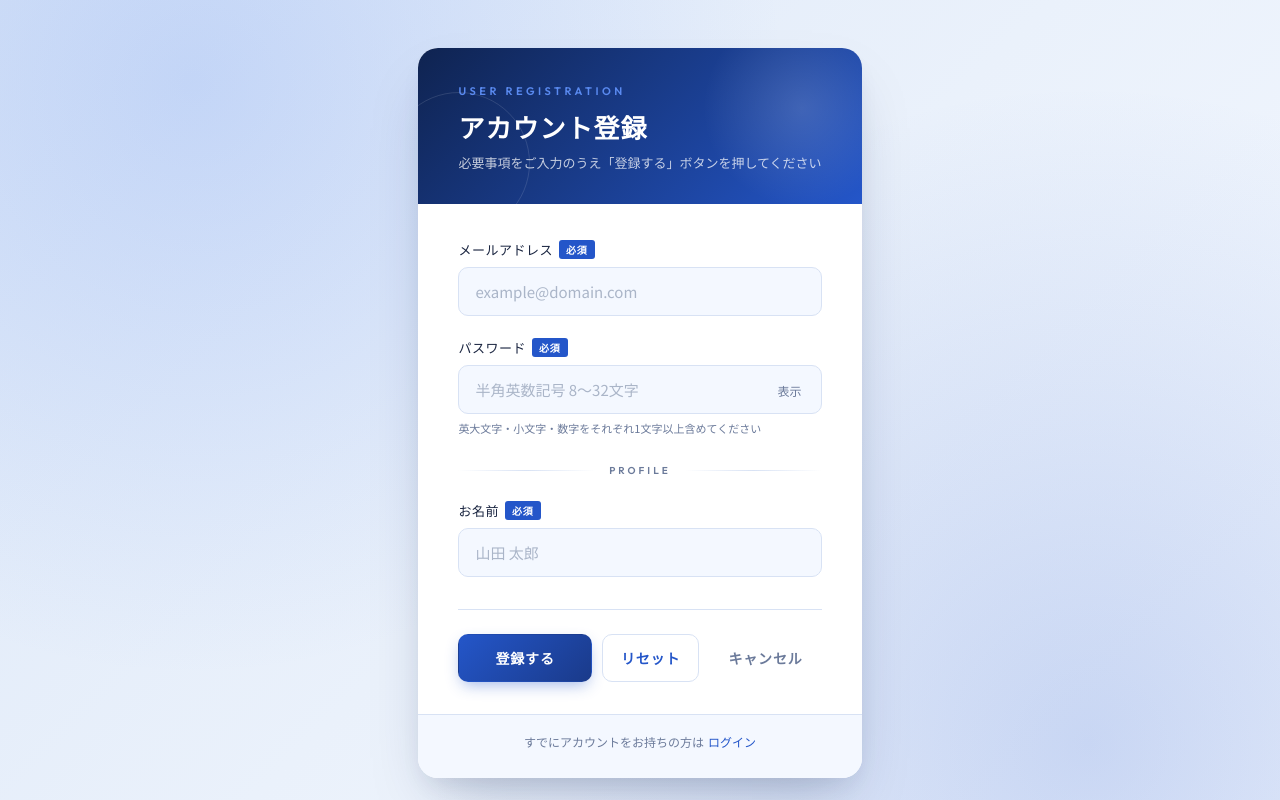
Test: Register › 全フィールド未入力で送信するとそれぞれエラーが出て signUp は呼ばれない
Click the button "登録する" at (525, 658), box [458,634,592,682]
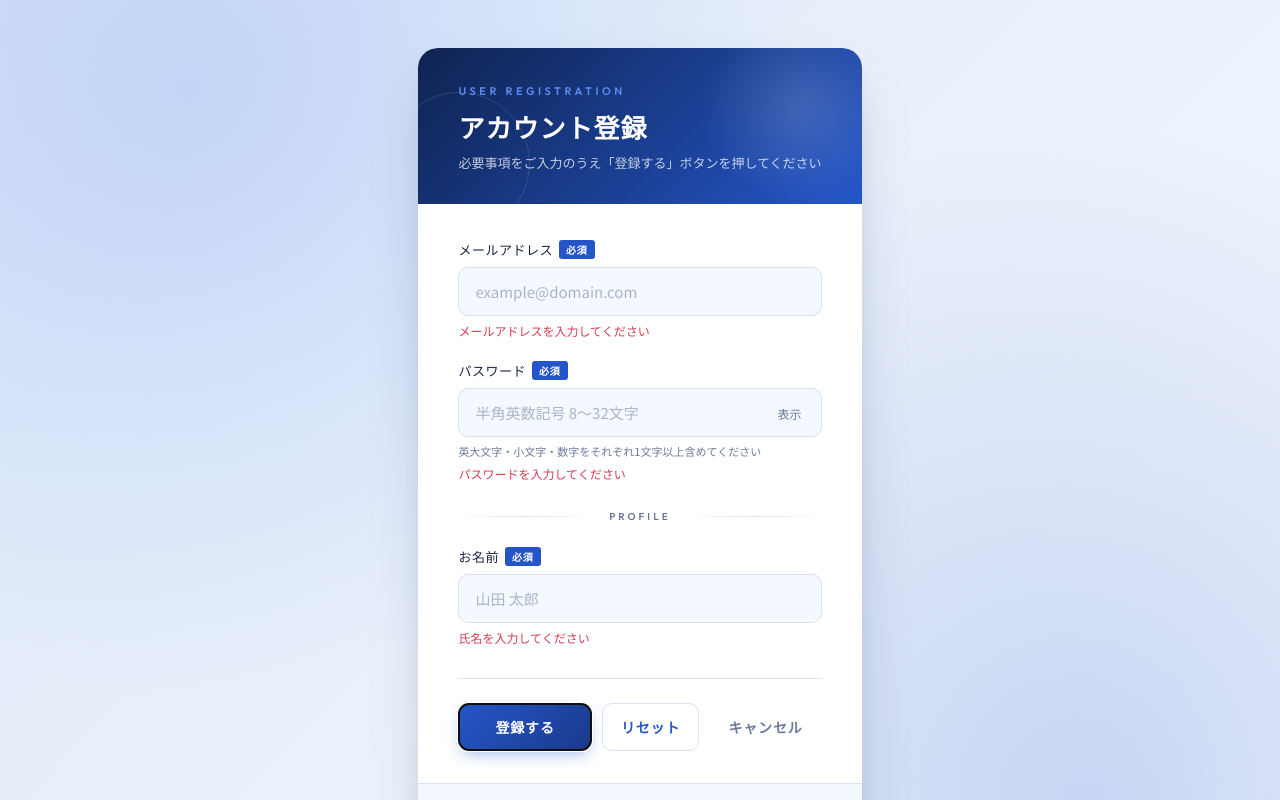
Now the text "メールアドレスを入力してください" is shown, box [458,322,650,339]
Now the text "パスワードを入力してください" is shown, box [458,465,626,482]
Now the text "氏名を入力してください" is shown, box [458,629,590,646]
